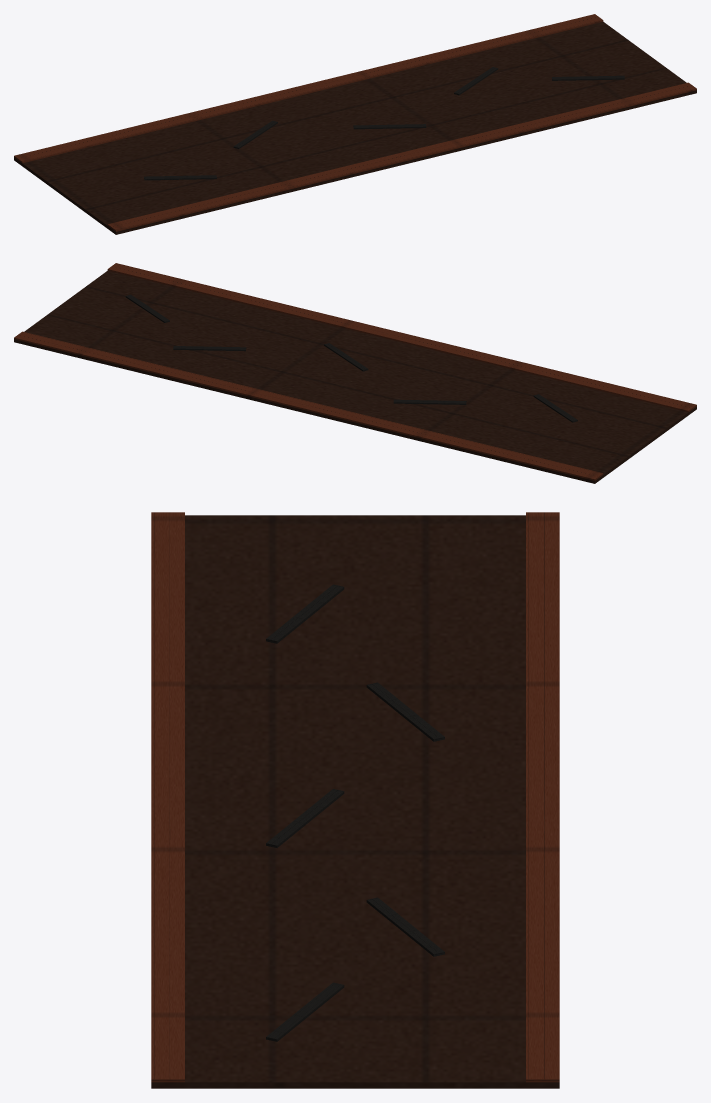
The model's file is canal-segment-dry.e9.glb.
3 renders of one model, top to bottom at view 1: azimuth 30°, elevation 25°; view 2: azimuth 150°, elevation 25°; view 3: azimuth 270°, elevation 25°, orthographic. The views are drawn at different scales.
Parts seen in each view (by area): view 1: CanalSegmentDryE9; view 2: CanalSegmentDryE9; view 3: CanalSegmentDryE9.
Boxes of the visible parts, x1,y1,x2,y2 form: CanalSegmentDryE9: (14,14,696,234); CanalSegmentDryE9: (14,263,696,483); CanalSegmentDryE9: (151,512,559,1088).
Bounding box in the file's own units: 4.8 × 0.036 × 1.46.
Materials: 1 (1 with a texture image).
